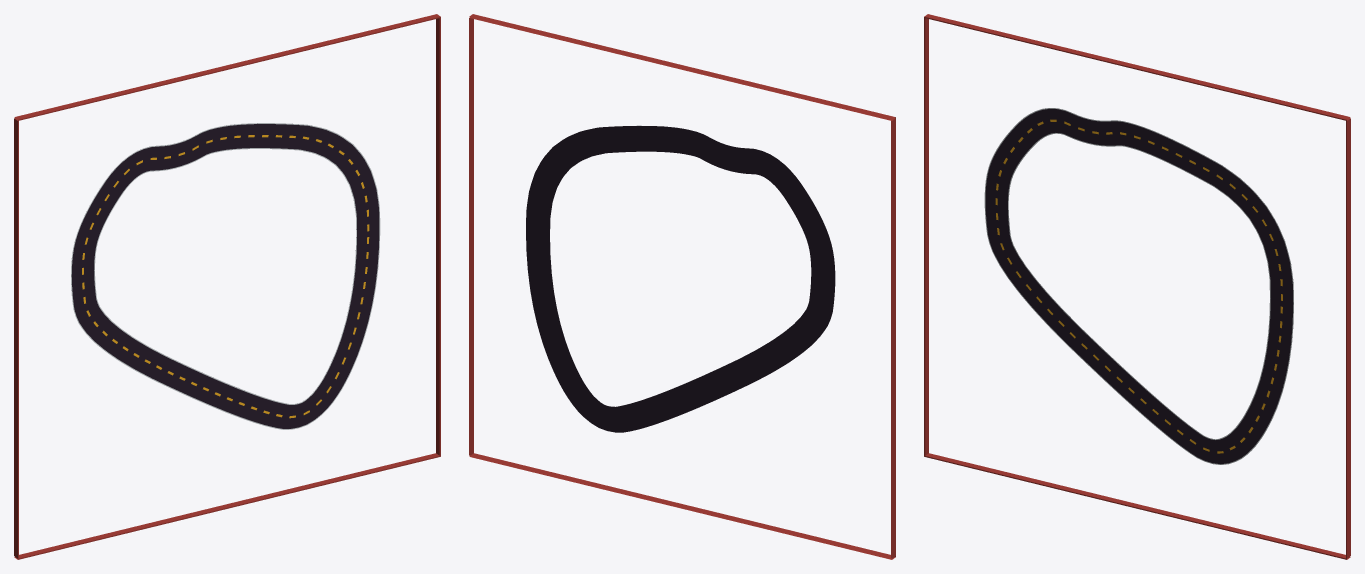
File: track.obj
3 views of the same model, side by side, from view 1: azimuth 30°, elevation 25°; view 2: azimuth 150°, elevation 25°; view 3: azimuth 330°, elevation 25° (orthographic).
Size of the model in its own units: 19.47 by 19.35 by 0.3.
4 materials, 4 textured.
